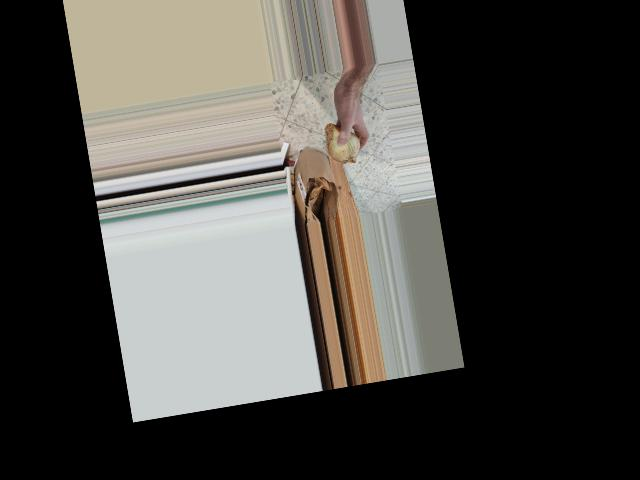onion: (320, 115, 367, 168)
